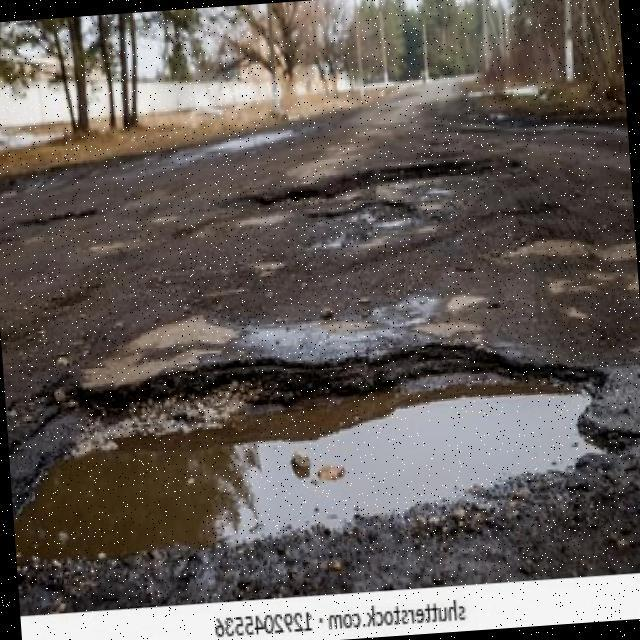Pothole: (11, 343, 632, 566), (248, 157, 493, 205), (306, 197, 413, 223), (3, 208, 94, 229)
